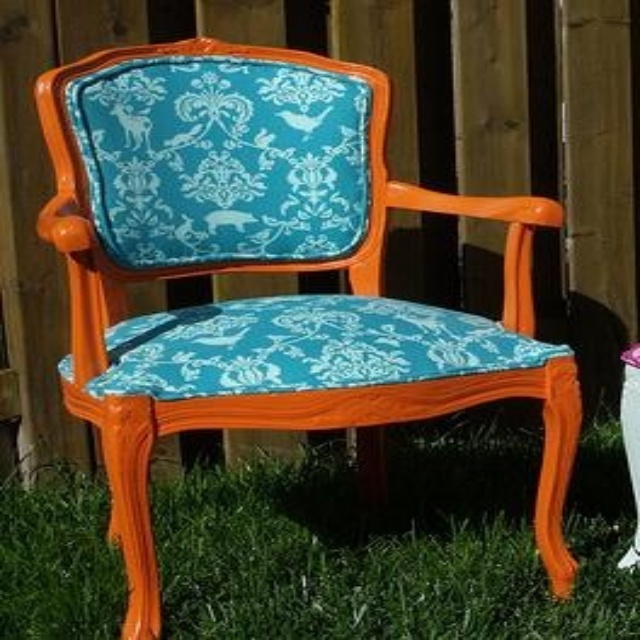obstacle: (36, 39, 579, 638), (618, 343, 638, 568)
